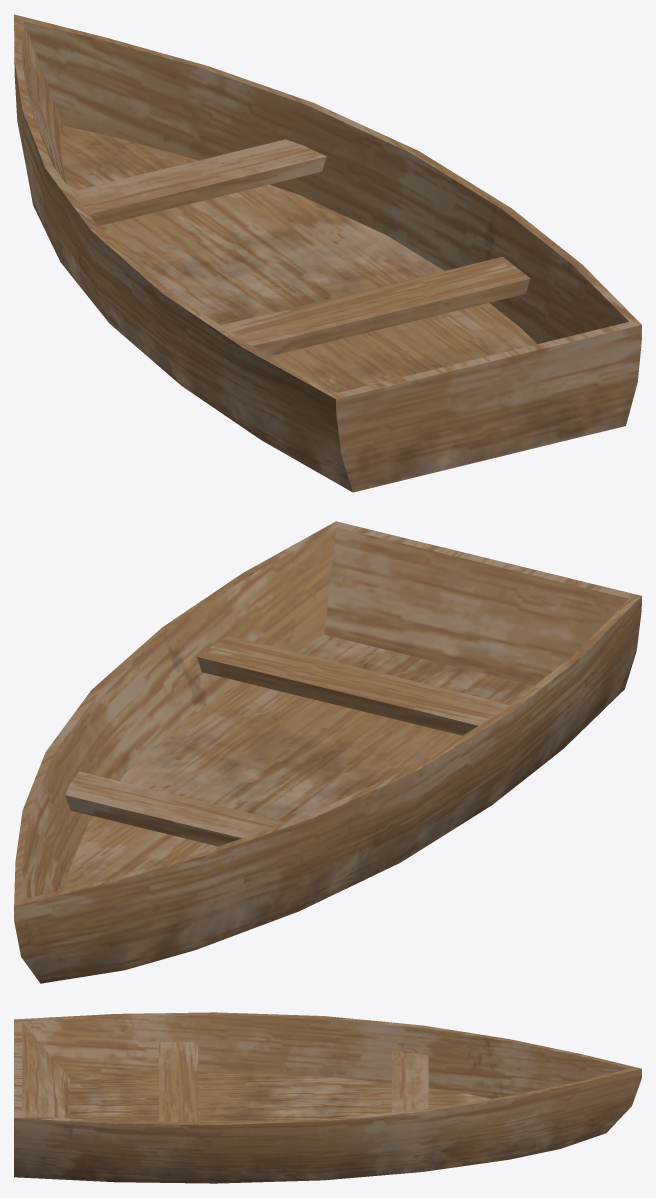
Rendered from boat.fbx.
The picture shows the model from 3 angles, top to bottom: view 1: azimuth 30°, elevation 25°; view 2: azimuth 150°, elevation 25°; view 3: azimuth 270°, elevation 25°; orthographic projection. The views are drawn at different scales.
Visible parts, largest first — view 1: Cube.071, Cube.074, Cube.070; view 2: Cube.071, Cube.074, Cube.070; view 3: Cube.071, Cube.074, Cube.070.
Boxes of the visible parts, x1,y1,x2,y2 form: Cube.071: (14, 14, 641, 492); Cube.074: (221, 256, 530, 356); Cube.070: (72, 139, 326, 226); Cube.071: (14, 521, 641, 983); Cube.074: (197, 636, 510, 735); Cube.070: (65, 771, 286, 846); Cube.071: (14, 1012, 641, 1183); Cube.074: (159, 1041, 197, 1122); Cube.070: (392, 1051, 428, 1112).
Size of the model in its own units: 750 by 200 by 1766.
Materials: 1 (1 with a texture image).
